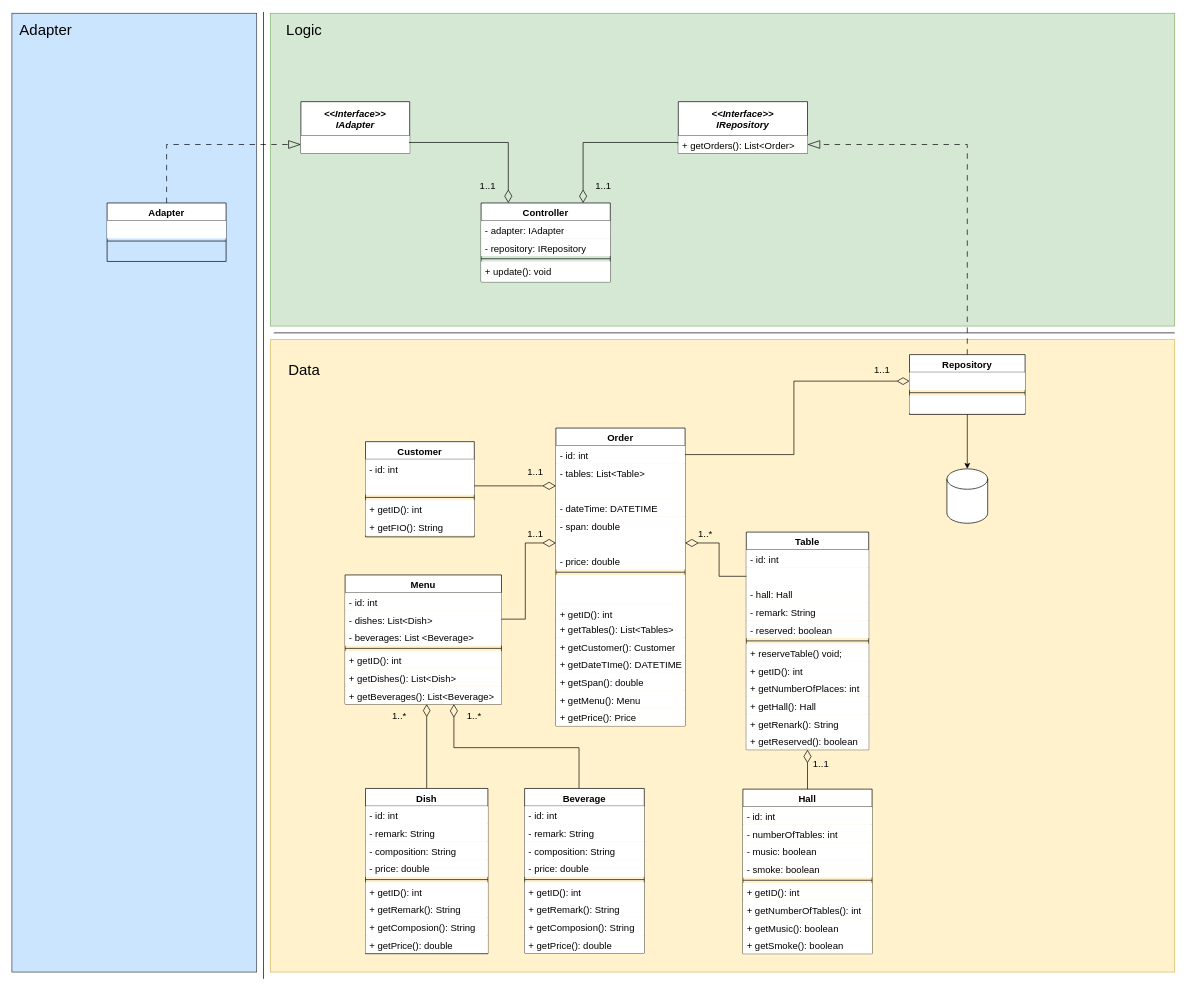
Some shapes in this 1187 by 991 pixel diagram are drawn without their labels. Here are the shapes that lost their labels. From the top down, the centre of each, then its label:
pixel 355 144: + viewDataOrder()
pixel 967 381: - order: Order
pixel 967 404: + saveOrder(Order): void
pixel 419 485: - FIO: String
pixel 620 489: - customer: Customer
pixel 967 495: DB
pixel 620 542: - menu: Menu
pixel 620 590: + calculatePrice(Menu): void
pixel 807 576: - numberOfPlaces: int
